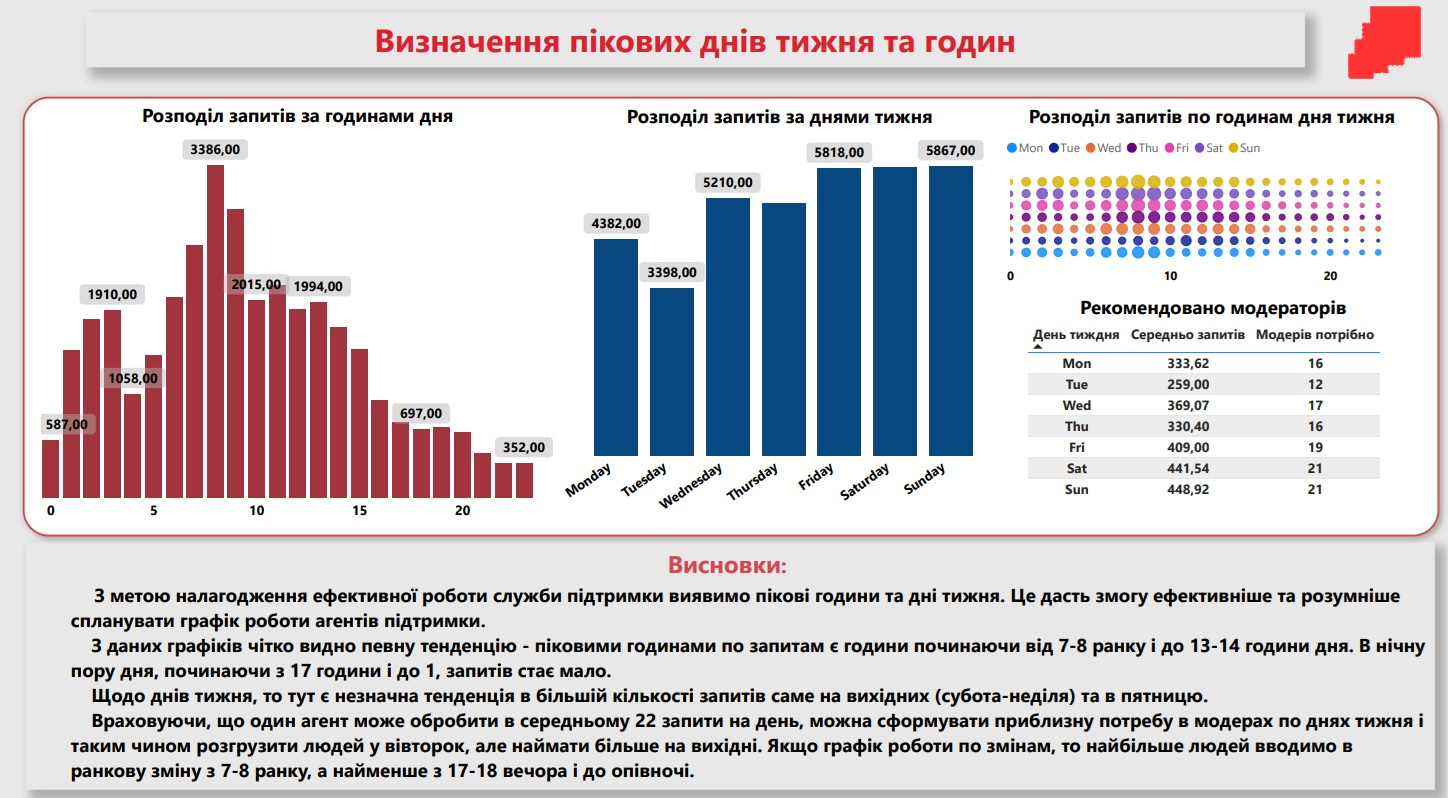

Layout of this report page (visuals, bound fields, positions):
{"tool":"powerbi","page":{"name":"Daily / Houtly trends","canvas":[1450,800],"ordinal":5},"visuals":[{"type":"textbox","box":[87.1,12.4,1220.3,54.4],"z":0},{"type":"image","box":[1322.8,0,127.5,83.9],"z":1000},{"type":"shape","box":[15.5,88,1434.8,457],"z":2000,"group":"g1"},{"type":"textbox","box":[26.7,541.7,1410,248.3],"z":2000},{"type":"group","id":"g1","title":"Group 12","box":[15.5,88,1434.8,457],"z":3500},{"type":"columnChart","title":"Розподіл запитів за годинами дня","fields":{"Category":["events.hour_of_day"],"Y":["CountNonNull(events.id_request)"]},"box":[38,101.9,521.7,428],"z":5000},{"type":"columnChart","title":"Розподіл запитів за днями тижня","fields":{"Y":["CountNonNull(events.id_request)"],"Category":["events.day_of_week"]},"box":[560.1,103.1,443,427.7],"z":5001},{"type":"scatterChart","title":"Розподіл запитів по годинам дня тижня","fields":{"X":["Requests_by_Hour_Weekday.hour_of_day"],"Y":["Requests_by_Hour_Weekday.day_of_week_num"],"Size":["Sum(Requests_by_Hour_Weekday.Total_Requests)"],"Series":["Requests_by_Hour_Weekday.day_of_week_short"]},"box":[1003.1,103.1,422.1,190.9],"z":5002},{"type":"tableEx","title":"Рекомендовано модераторів","fields":{"Values":["Weekday_Summary.WeekdayName","Sum(Weekday_Summary.avg_requests_per_day)","Sum(Weekday_Summary.recommended_moderators)"]},"box":[1024,294,383.1,236.8],"z":5003}]}

Visuals, with their boxes in screenshot pixels (x1, y1, x2, y2), scaled from the page's 1450x800 canvas onto the 1448x798 screenshot:
textbox: crop(87, 12, 1306, 67)
image: crop(1321, 0, 1447, 84)
shape: crop(15, 88, 1447, 544)
textbox: crop(27, 540, 1435, 788)
"Group 12" group: crop(15, 88, 1447, 544)
"Розподіл запитів за годинами дня" columnChart: crop(38, 102, 559, 529)
"Розподіл запитів за днями тижня" columnChart: crop(559, 103, 1002, 529)
"Розподіл запитів по годинам дня тижня" scatterChart: crop(1002, 103, 1423, 293)
"Рекомендовано модераторів" tableEx: crop(1023, 293, 1405, 529)
